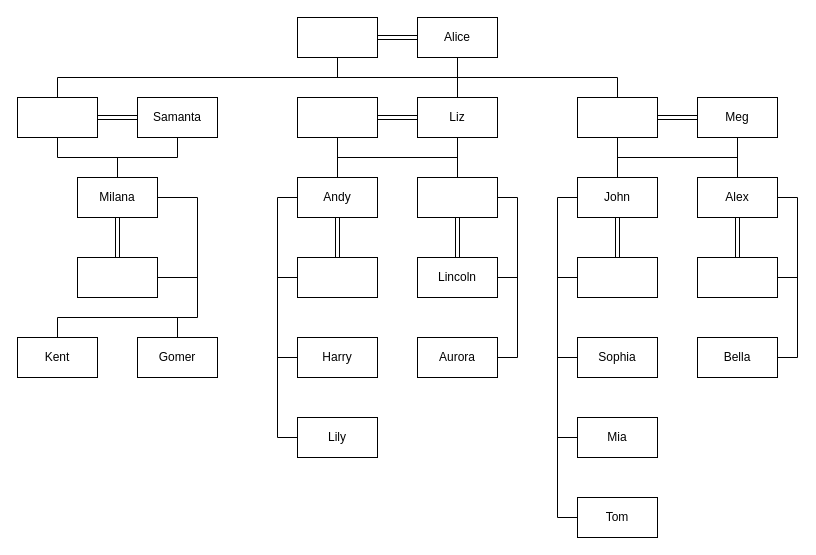
The diagram is 816 pixels wide and 555 high, and some of its shapes have lost their labels. The box of each missing label's shape, as (x1, y1, x2, y2) in pixels:
Arnold: (76, 256, 158, 298)
Bred: (16, 96, 98, 138)
Carl: (576, 96, 658, 138)
Grace: (576, 256, 658, 298)
Jack: (296, 16, 378, 58)
Lara: (696, 256, 778, 298)
Mary: (296, 256, 378, 298)
Nicol: (416, 176, 498, 218)
Sam: (296, 96, 378, 138)
